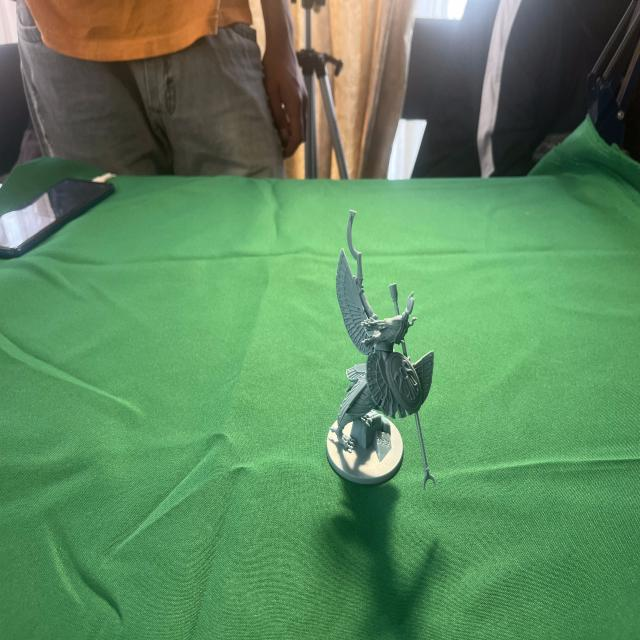isis: (322, 201, 442, 514)
